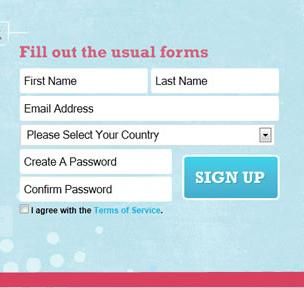button: (181, 154, 280, 201)
checkbox: (20, 204, 29, 214)
checkbox_with_label: (19, 205, 166, 215)
field: (18, 95, 281, 122), (20, 123, 275, 146), (19, 175, 173, 203), (19, 147, 172, 175), (19, 67, 150, 95), (150, 67, 280, 94)
